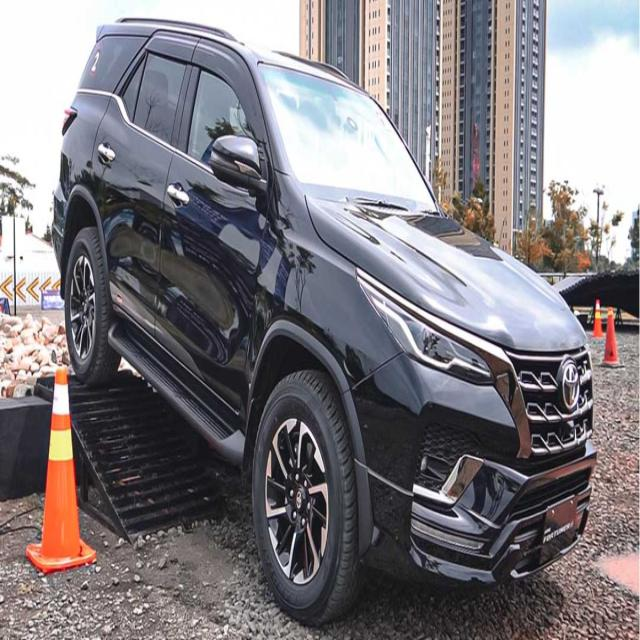light_vehicle: (51, 17, 600, 624)
